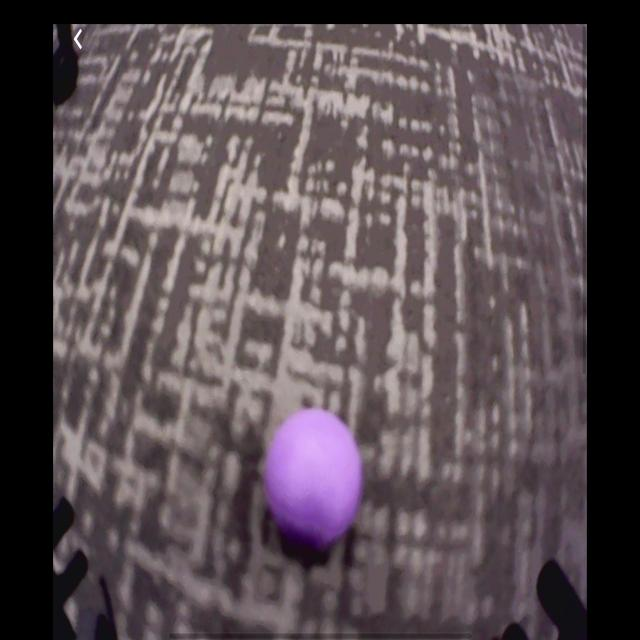ball: (264, 407, 364, 548)
